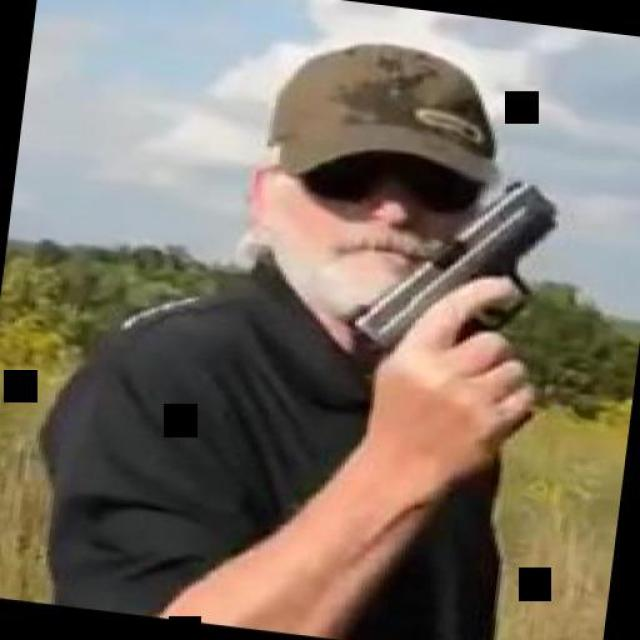gun: (341, 161, 581, 429)
